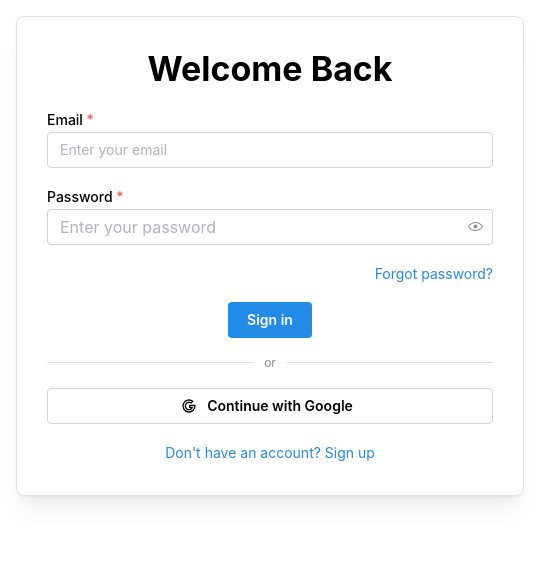
Test: a real Google sign-in failure shows a friendly message
The image size is (541, 588).
Click the button "Continue with Google".
click(270, 406)  # box [47,388,493,424]
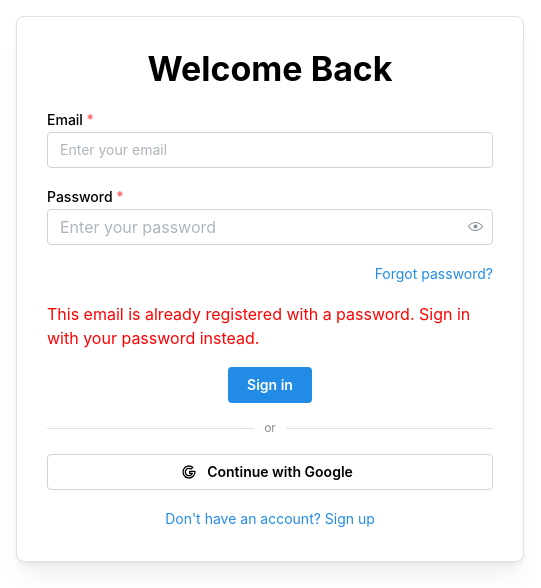
Expected: the text "already registered with a password" is shown, [47,304,470,348]
